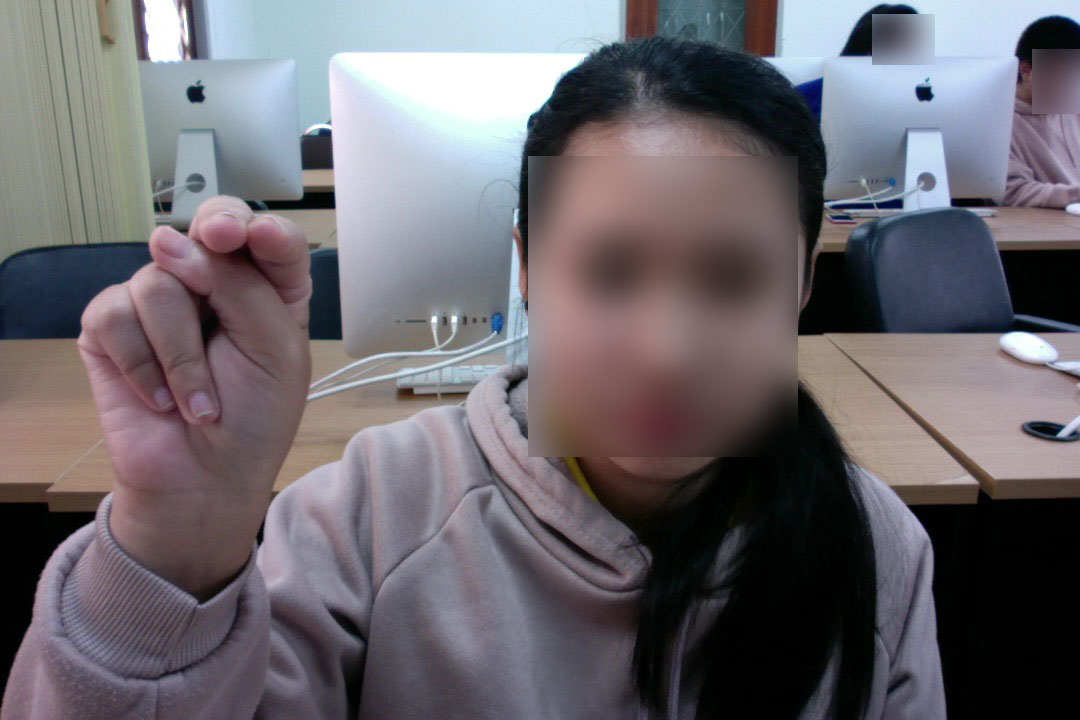nor: (61, 186, 336, 542)
